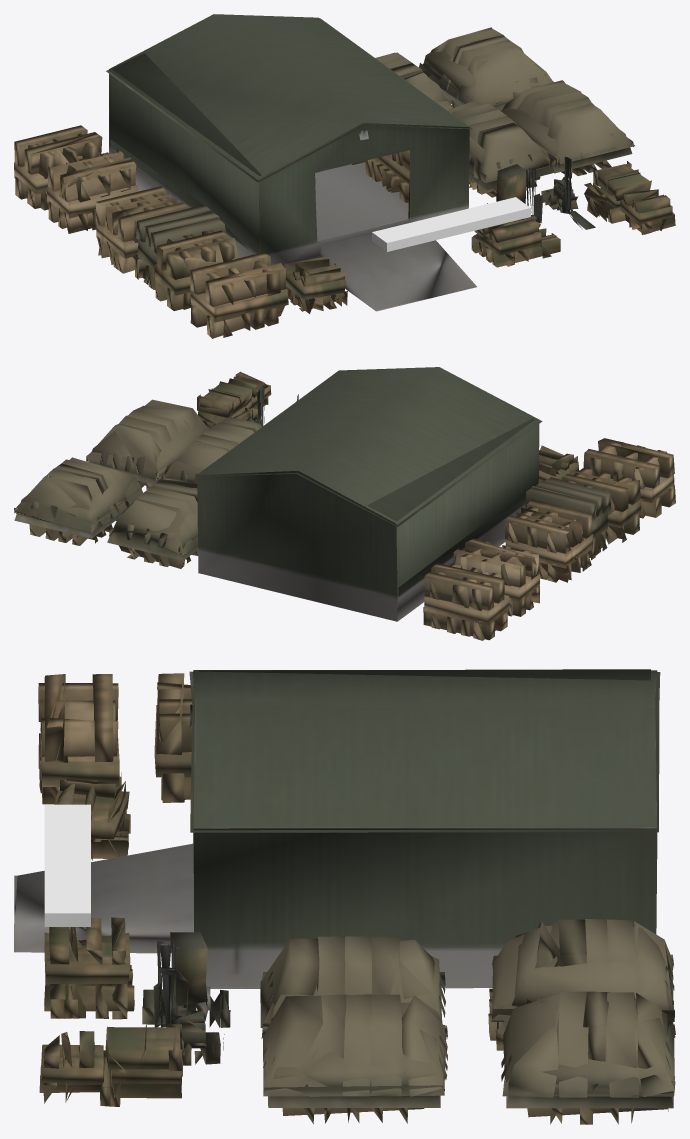
File: cn-supply-center.glb
3 views of the same model, one above another, from view 1: azimuth 30°, elevation 25°; view 2: azimuth 150°, elevation 25°; view 3: azimuth 270°, elevation 25° (orthographic). The views are drawn at different scales.
Parts seen in each view (by area): view 1: cn-supply-center; view 2: cn-supply-center; view 3: cn-supply-center.
Boxes of the visible parts, x1=… form: cn-supply-center: x1=14, y1=14, x2=675, y2=338; cn-supply-center: x1=14, y1=367, x2=675, y2=640; cn-supply-center: x1=14, y1=669, x2=675, y2=1124.
Size of the model in its own units: 3.44 by 0.9 by 2.58.
Materials: 2 (1 with a texture image).
